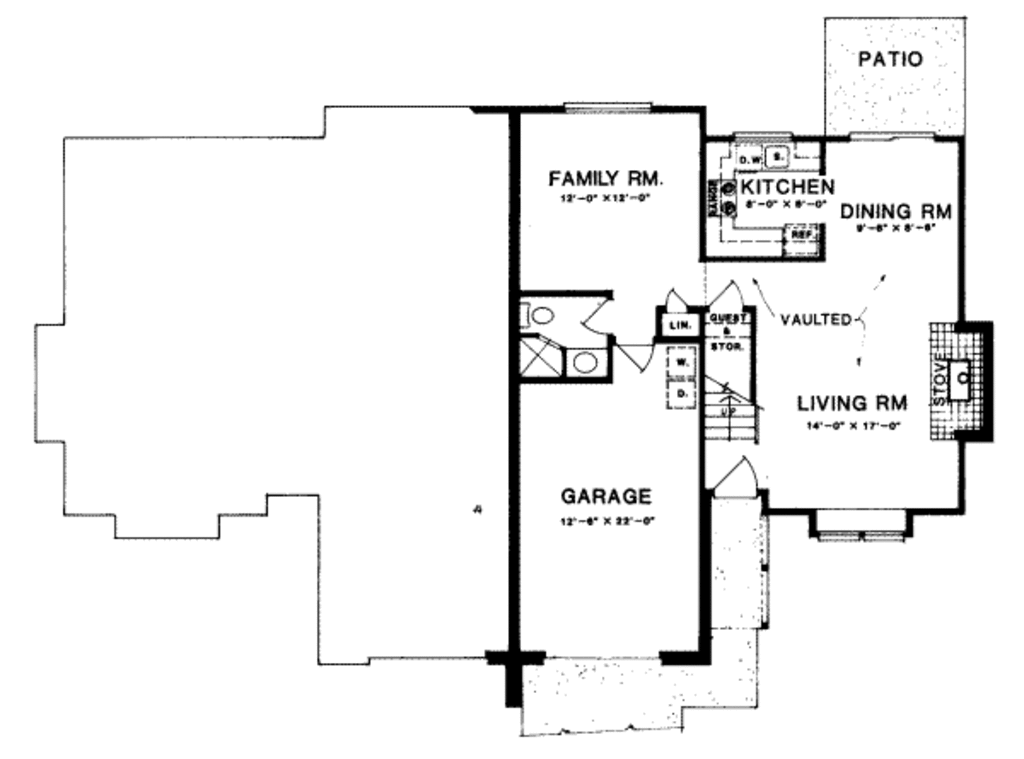door: (704, 452, 761, 500), (705, 274, 747, 312), (577, 294, 613, 336), (612, 342, 650, 377), (665, 288, 688, 315)
large_sink: (518, 298, 563, 333)
small_sink: (561, 344, 603, 377)
stairs: (696, 331, 763, 444)
window: (564, 98, 658, 120), (863, 525, 903, 546), (813, 529, 859, 545)
